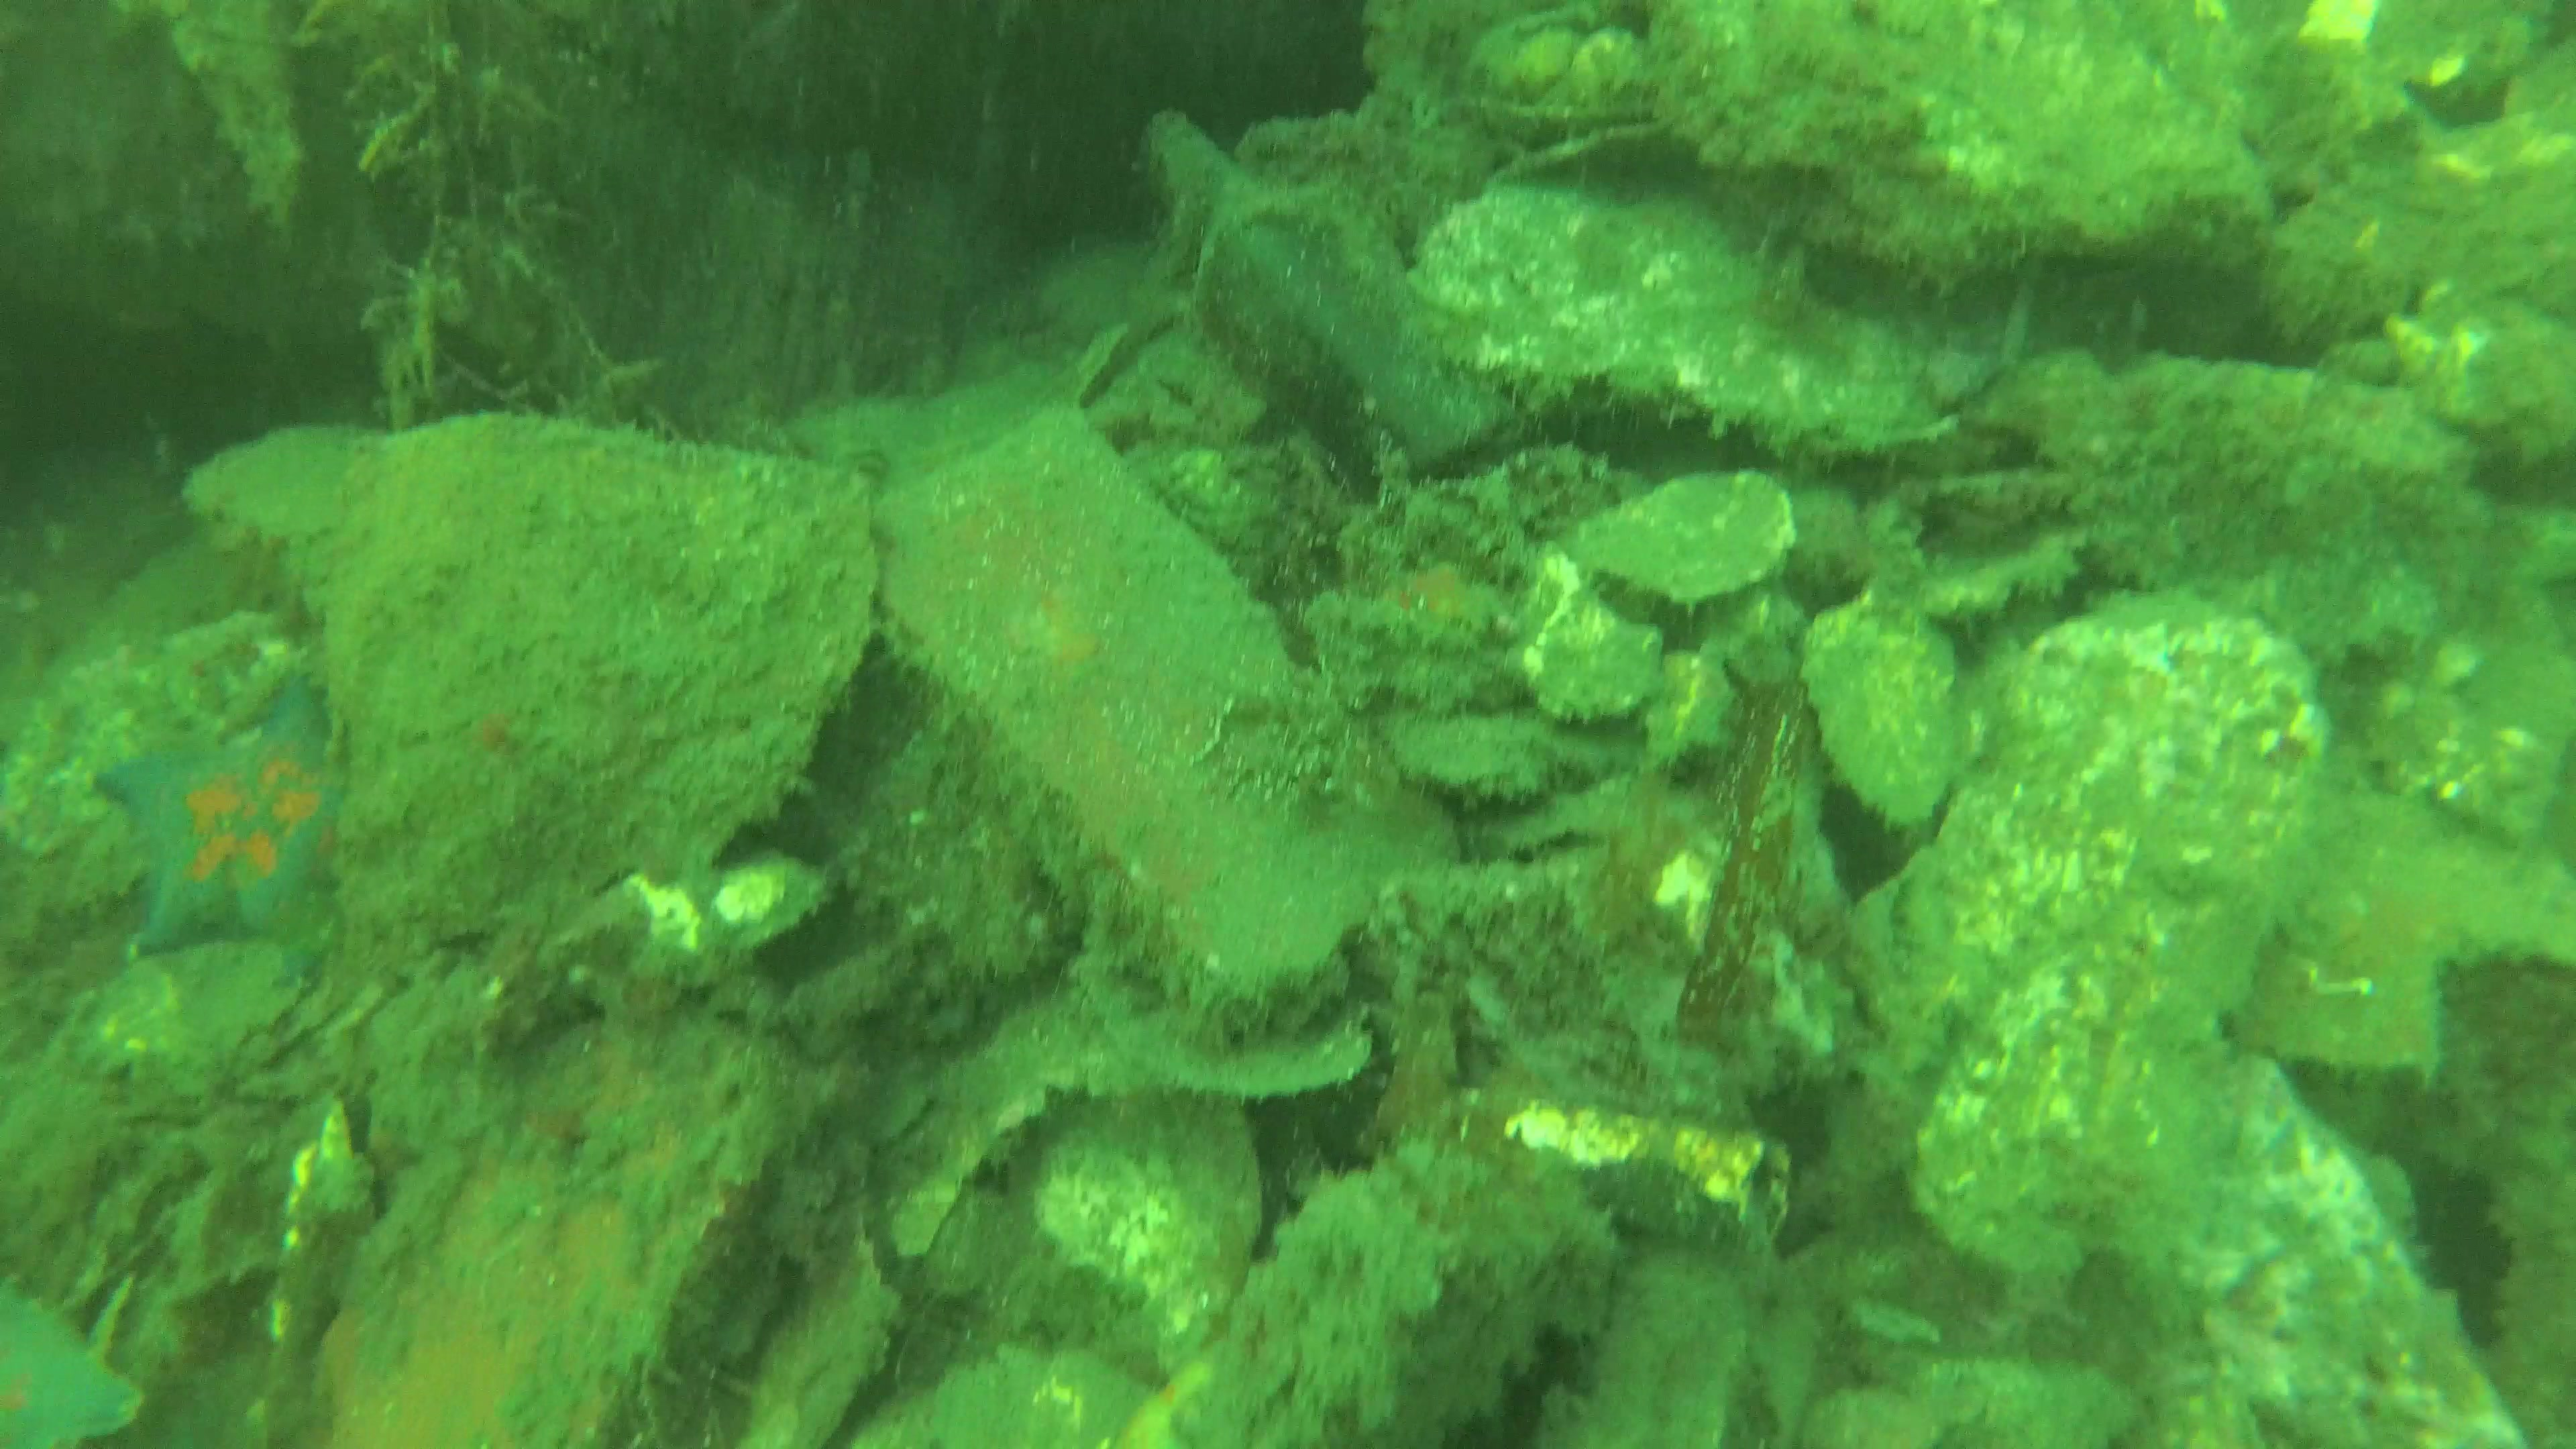starfish: (88, 663, 364, 955), (0, 1247, 157, 1449)
